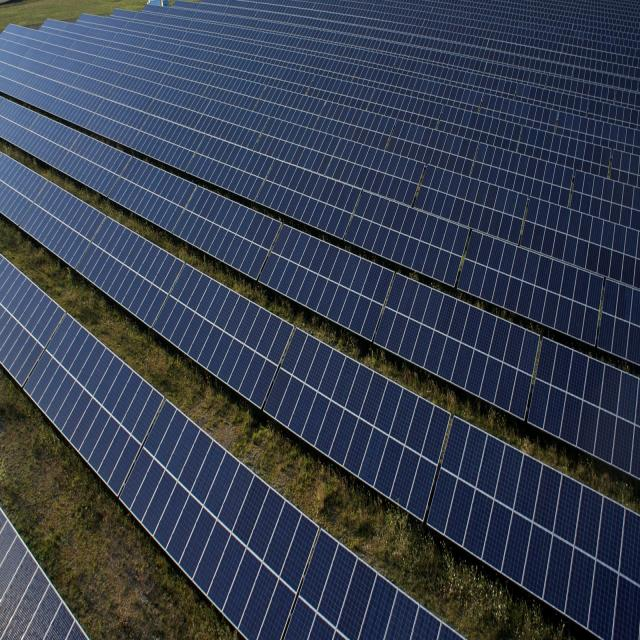Clean: (0, 152, 640, 640), (0, 0, 640, 474), (0, 246, 453, 640), (0, 504, 86, 639)
